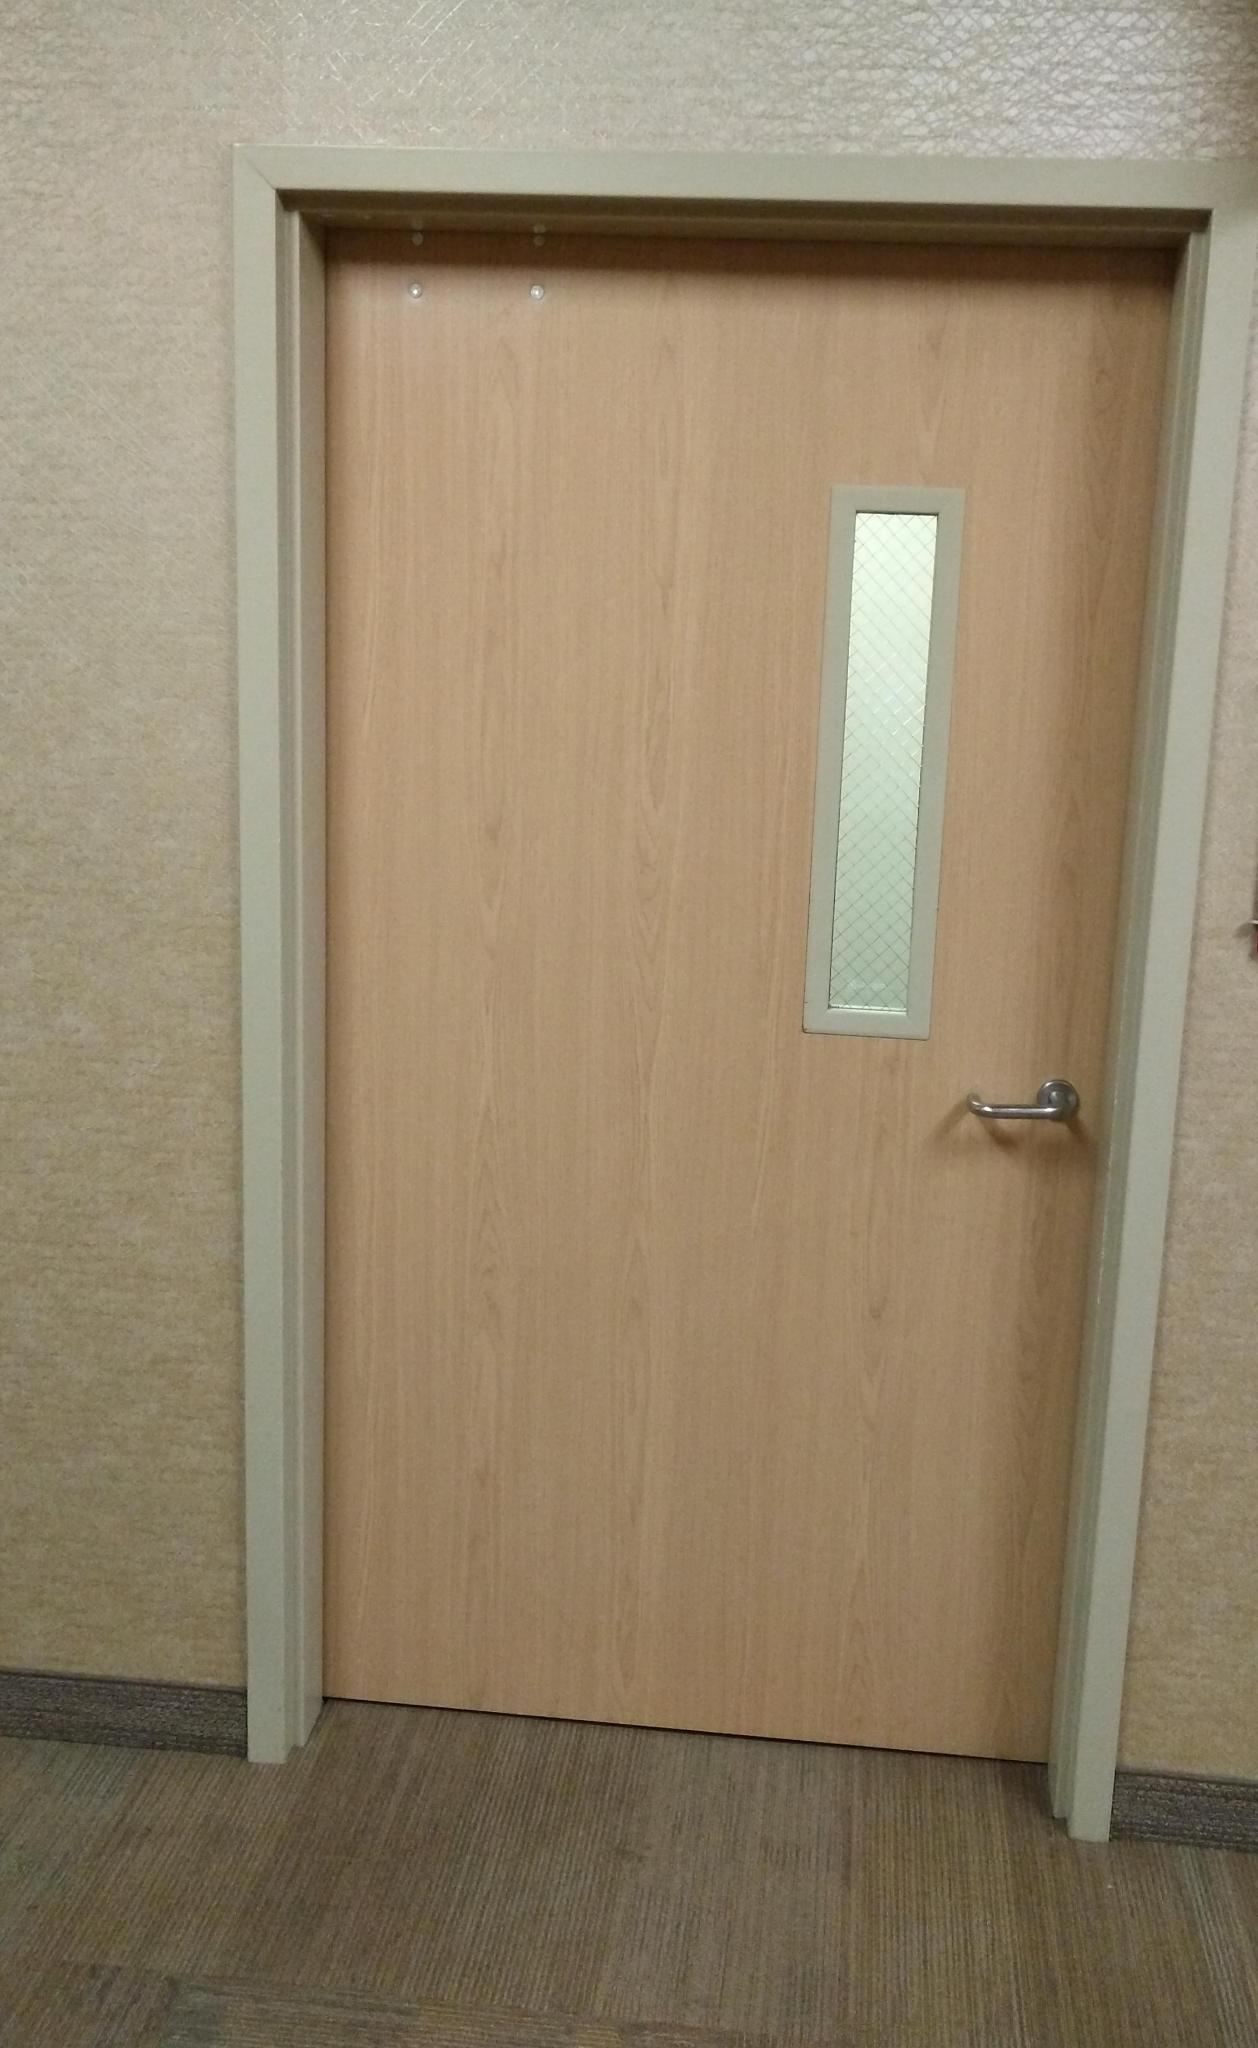door: (325, 238, 1096, 1695)
handle: (968, 1084, 1084, 1163)
